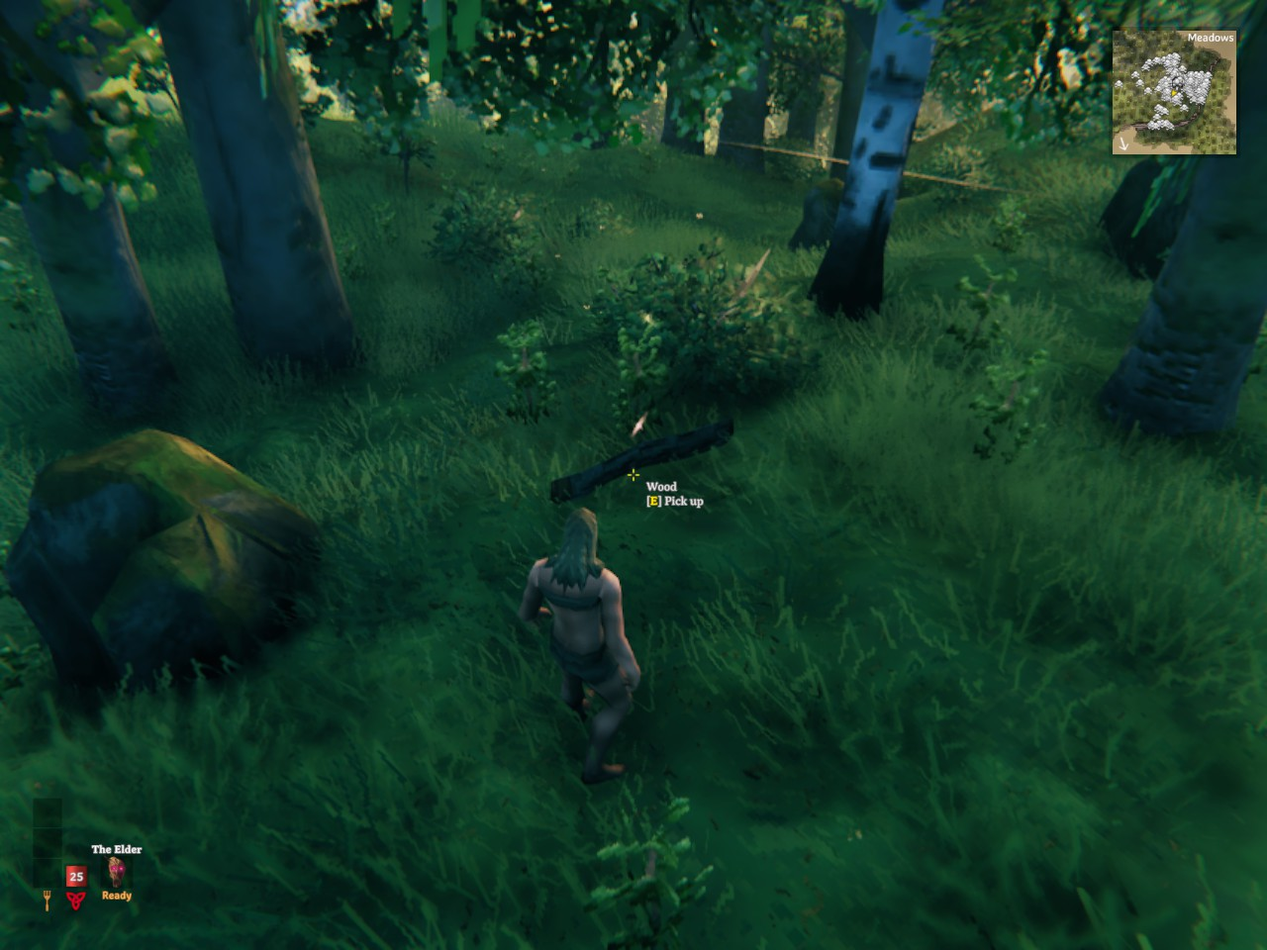Health Bar: (65, 865, 86, 887)
Wood: (551, 419, 732, 502)
